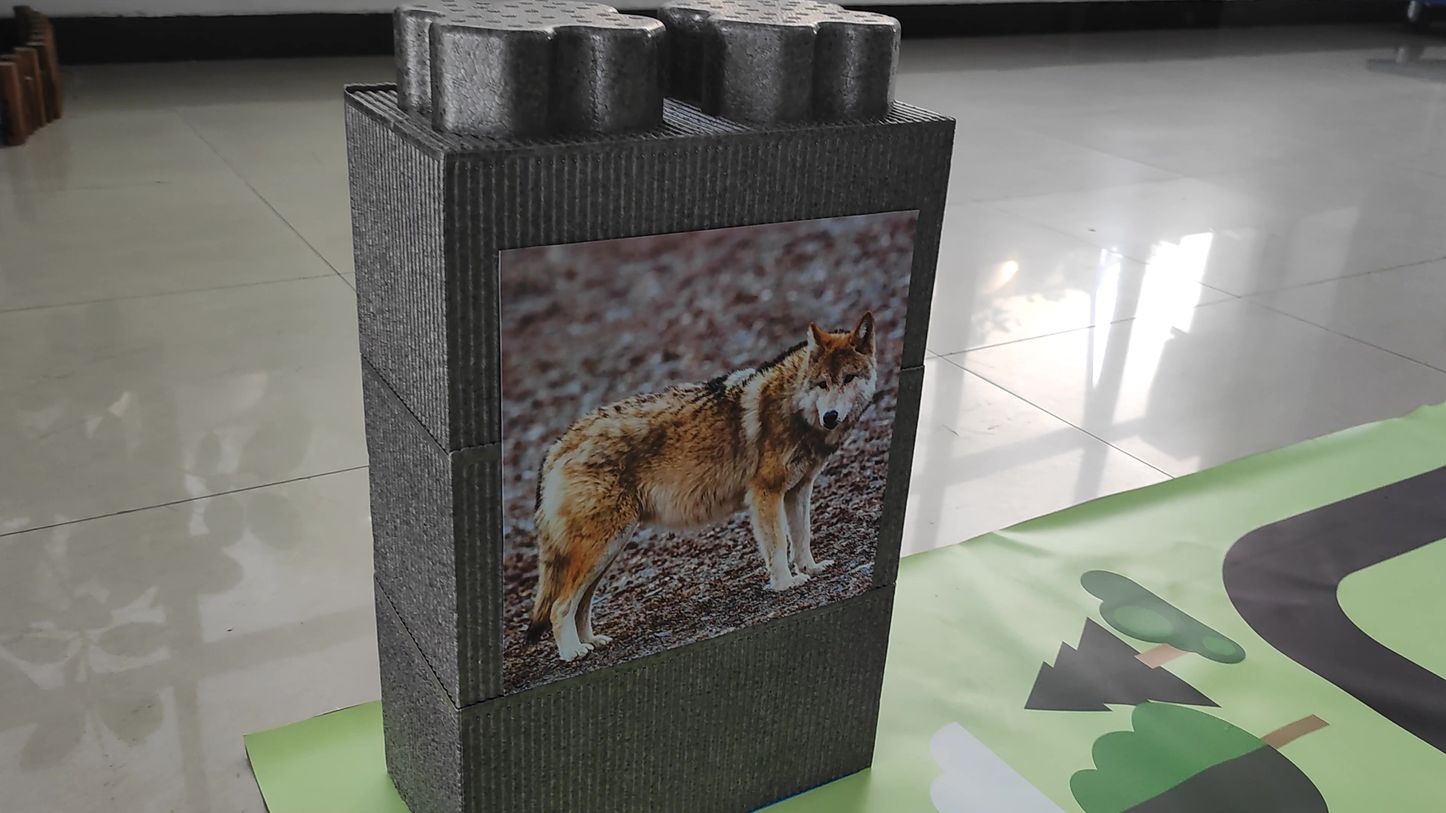wolf: (517, 237, 875, 653)
